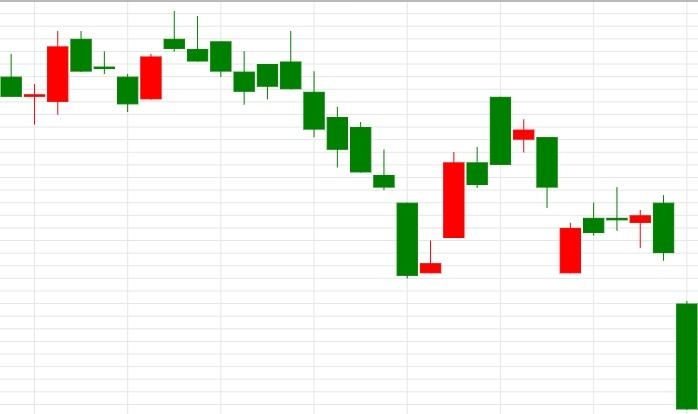bearish_engulfing_fall: (559, 188, 675, 274)
